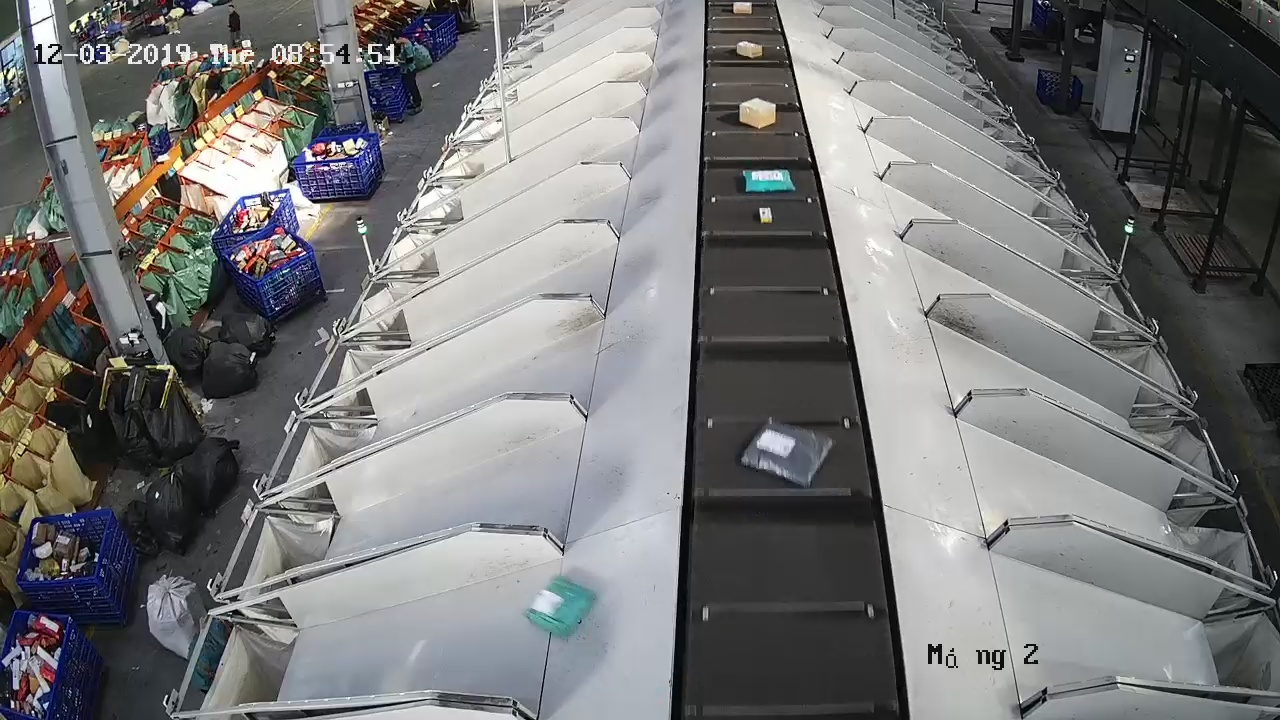parcel: (739, 421, 836, 489), (520, 575, 597, 641), (741, 167, 797, 194), (738, 96, 778, 130), (758, 205, 774, 225)
